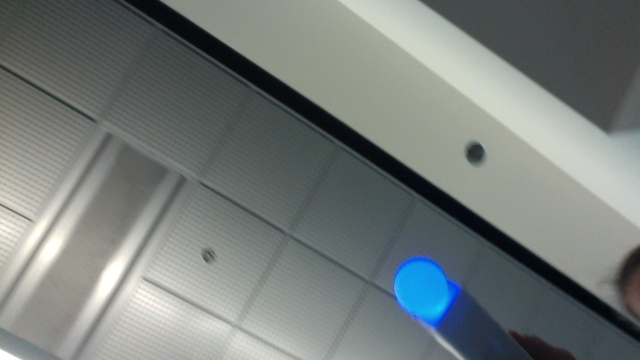wand: (394, 260, 452, 316)
